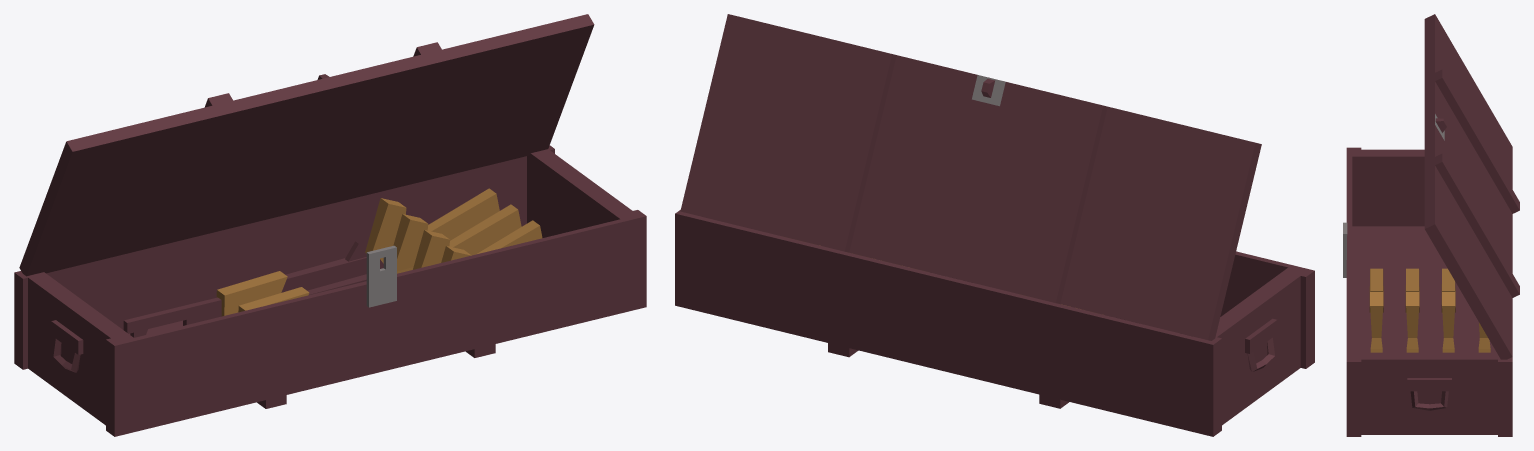
The model's file is crate-army-ak4-open.fbx.
3 views of the same model, side by side, from view 1: azimuth 30°, elevation 25°; view 2: azimuth 150°, elevation 25°; view 3: azimuth 270°, elevation 25° (orthographic). The views are drawn at different scales.
Visible parts, largest first — view 1: crate-army-ak4-open; view 2: crate-army-ak4-open; view 3: crate-army-ak4-open.
Boxes of the visible parts, x1,y1,x2,y2 form: crate-army-ak4-open: [14, 14, 646, 436]; crate-army-ak4-open: [675, 14, 1314, 436]; crate-army-ak4-open: [1343, 14, 1519, 436].
Size of the model in its own units: 1.23 by 0.5903 by 0.4268.
